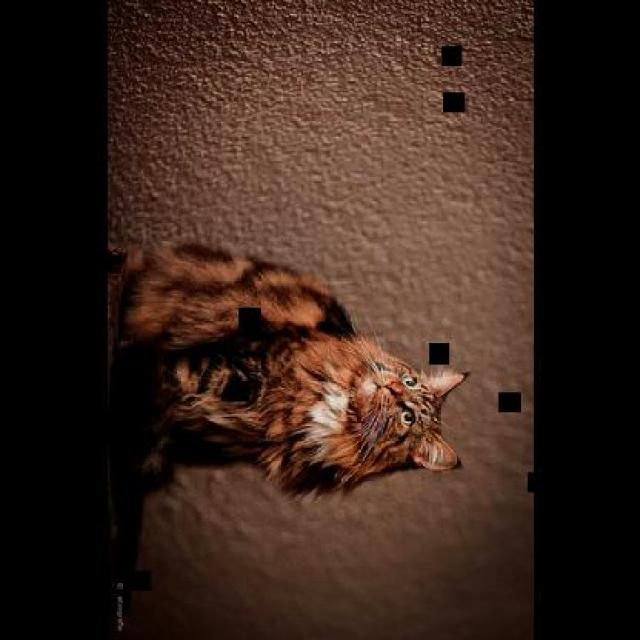unauthorized: (112, 238, 470, 502)
